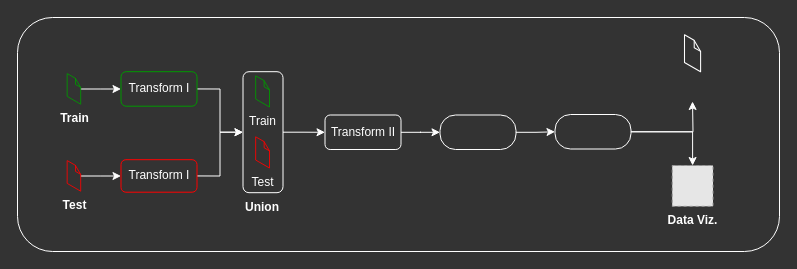
This 797x269 diagram has some shape labels left out. Grey dashed boxes stand in for pictures. Each missing label, with the box of its shape:
Final File: (554, 114, 631, 149)
final.csv: (684, 34, 701, 72)
Logit: (439, 114, 516, 150)
